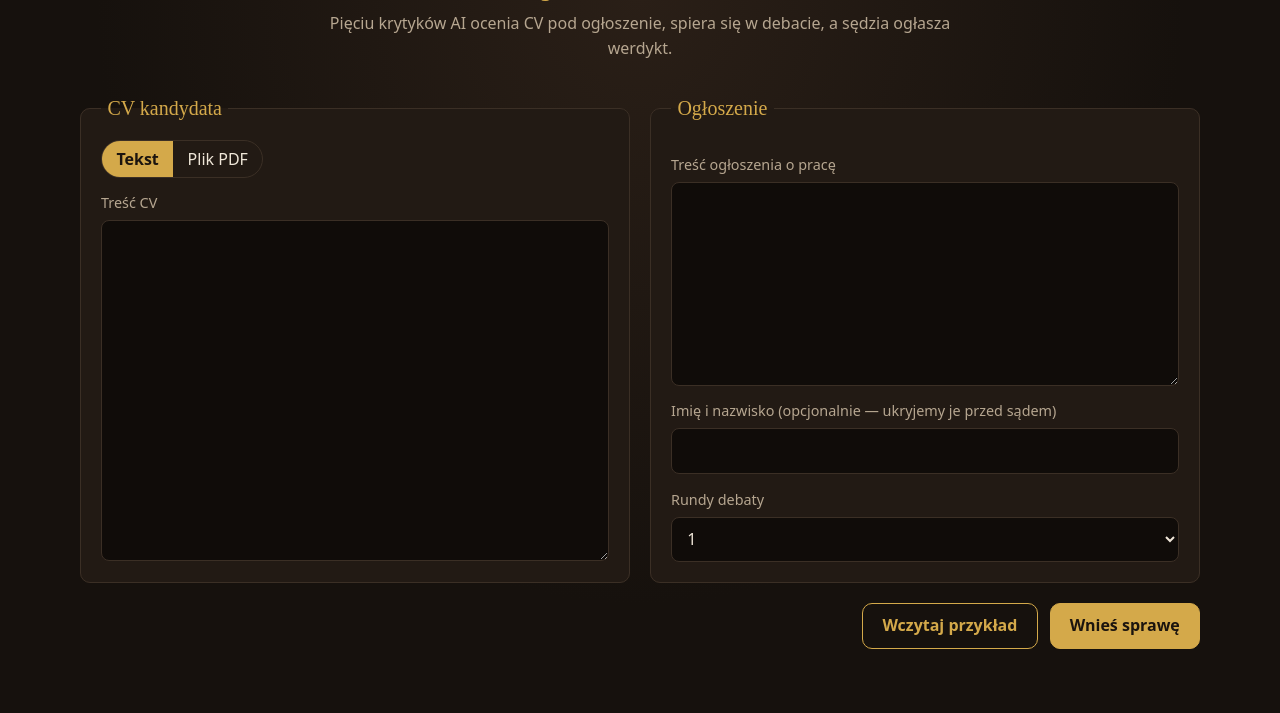
Test: App › bez rozprawy w adresie: formularz; po wniesieniu: sala z id w adresie i informacja o anonimizacji
(page scrolled)
Click the button "Wczytaj przykład": coordinates (950, 626) [862,603,1038,649]
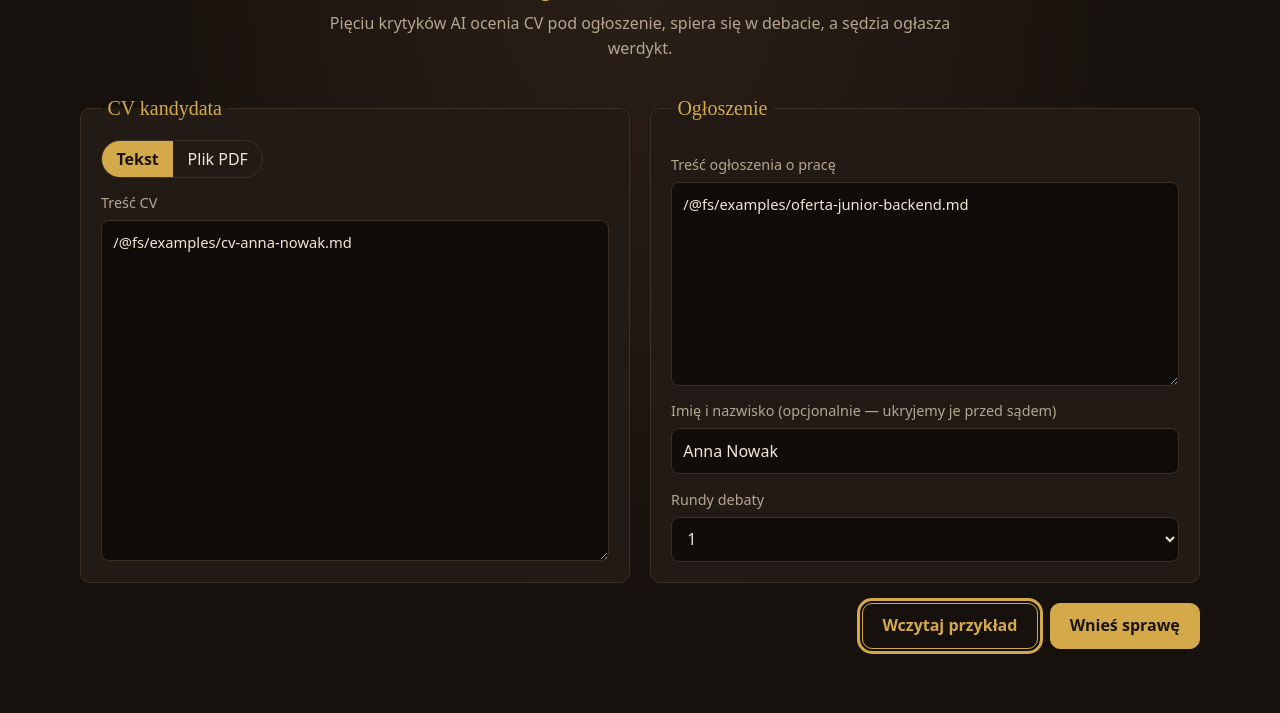
Click the button "Wnieś sprawę": coordinates (1125, 626) [1050,603,1200,649]
(page scrolled)
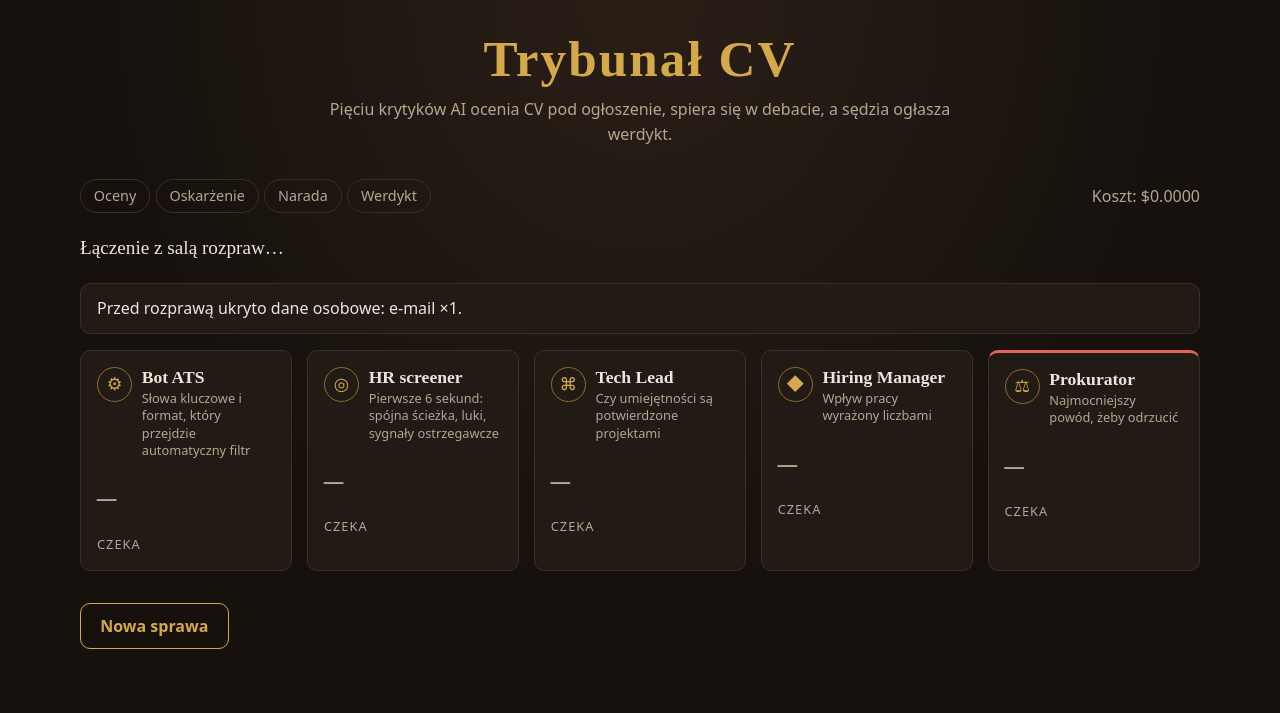
Expected: the message reads "Łączenie z salą rozpraw…", [80,237,284,258]
Expected: the text "Przed rozprawą ukryto dane osobowe: e-mail ×1." is shown, [80,283,1200,334]
